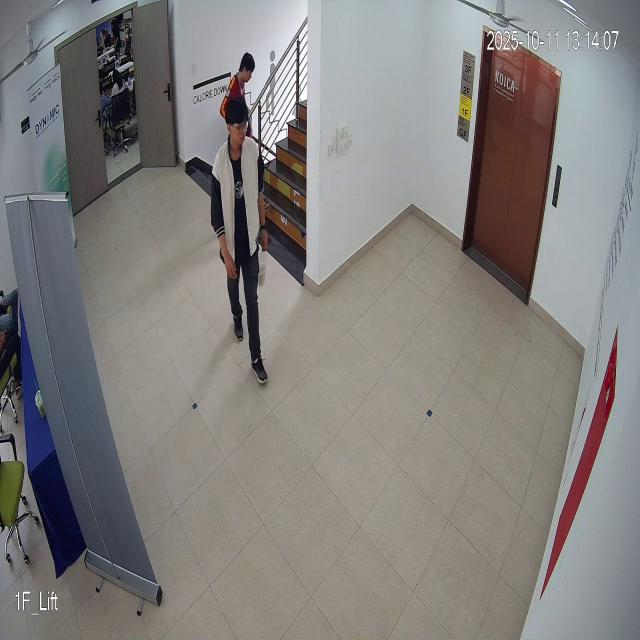face: (225, 86, 250, 151)
